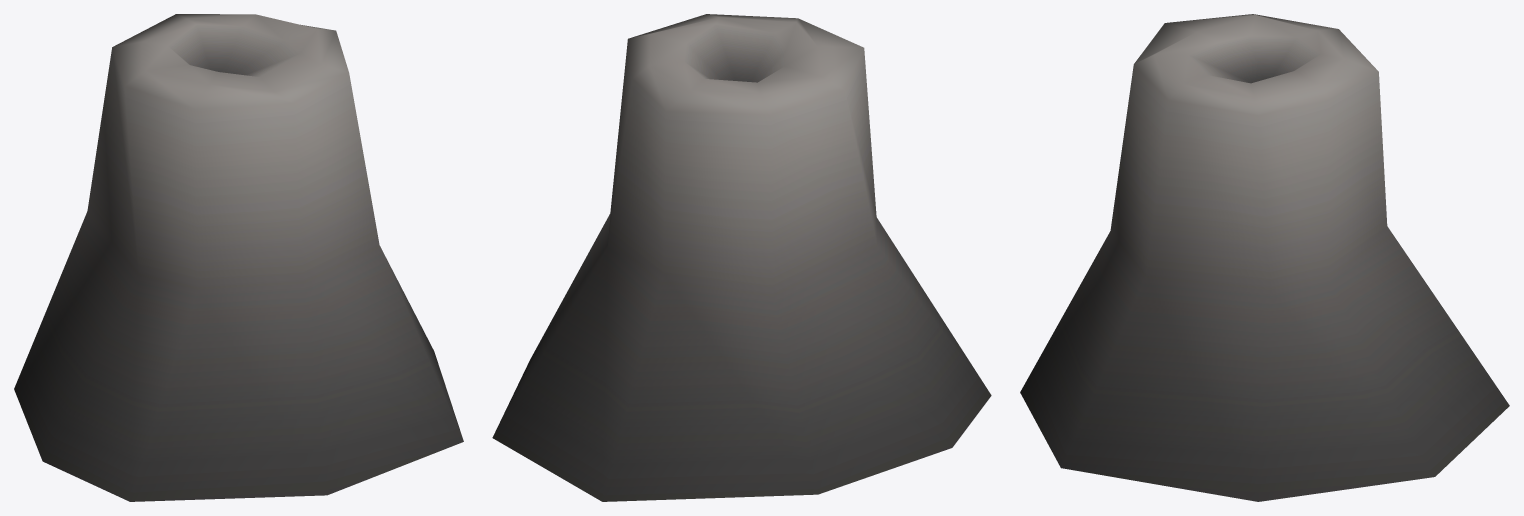
The model's file is m_Vent02_A.fbx.
The picture shows the model from 3 angles, left to right: view 1: azimuth 30°, elevation 25°; view 2: azimuth 150°, elevation 25°; view 3: azimuth 270°, elevation 25°; orthographic projection.
Visible parts, largest first — view 1: m_Vent02_A; view 2: m_Vent02_A; view 3: m_Vent02_A.
Part boxes in pixels (x1,y1,x2,y2): m_Vent02_A: (14, 14, 463, 501); m_Vent02_A: (492, 14, 991, 501); m_Vent02_A: (1020, 14, 1509, 501).
Size of the model in its own units: 108 by 90.45 by 115.
